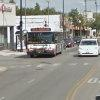Bus: (26, 22, 66, 59)
